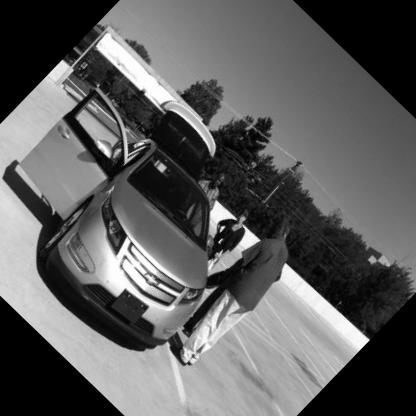car: (1, 51, 289, 374)
